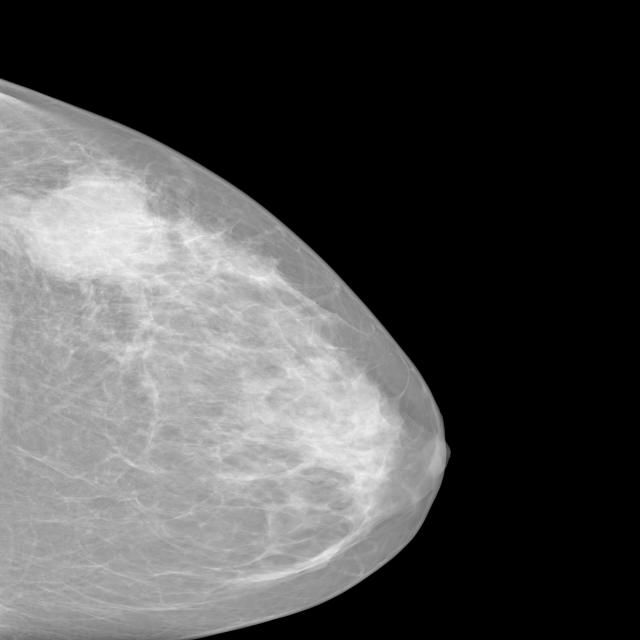Mass_1: (1, 154, 188, 309)
